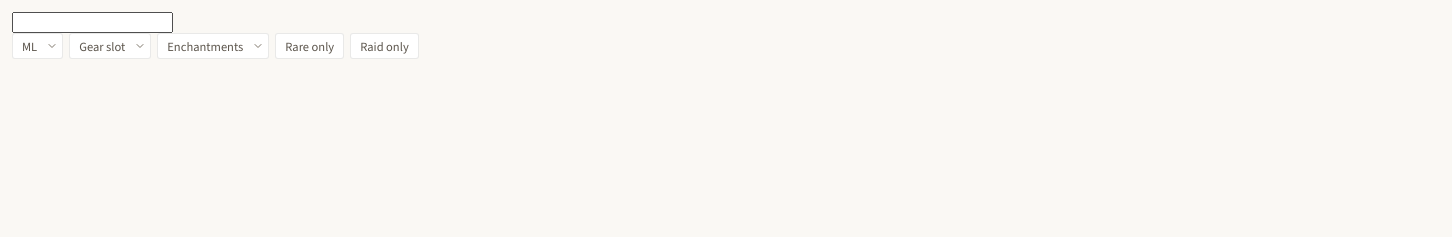
Test: FilterChipRow › keeps the multi label, shows its count in a badge, and renders removable applied pills
Click the button "Enchantments" at (213, 46), box [157, 33, 269, 59]
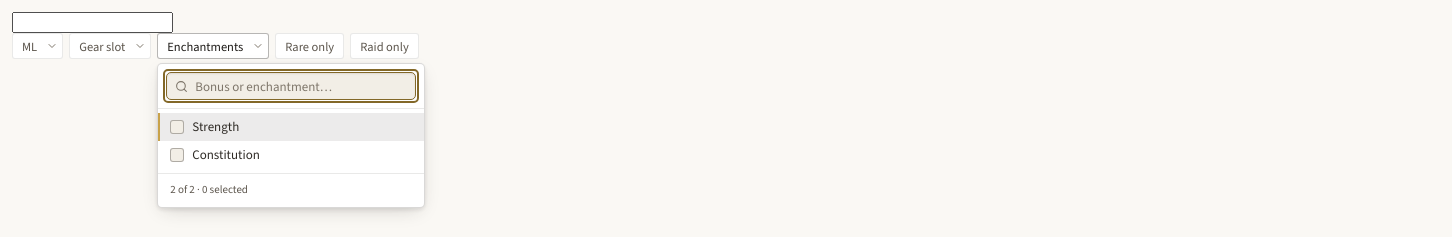
Click the option "Strength" at (216, 127), box [158, 113, 424, 141]
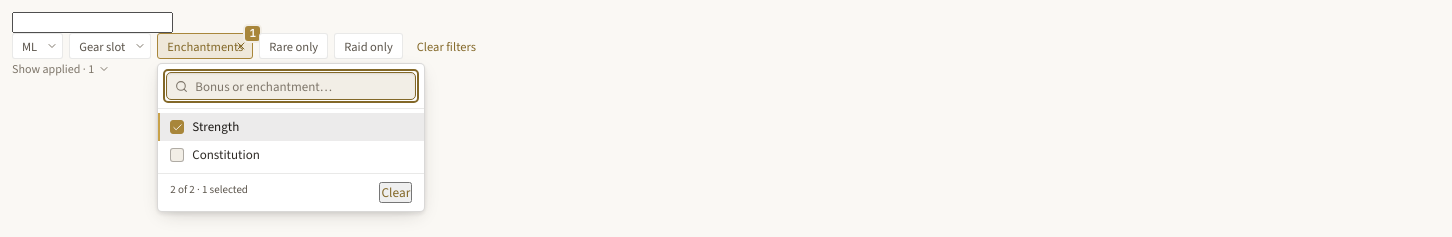
Click the option "Constitution" at (215, 155), box [170, 146, 260, 163]
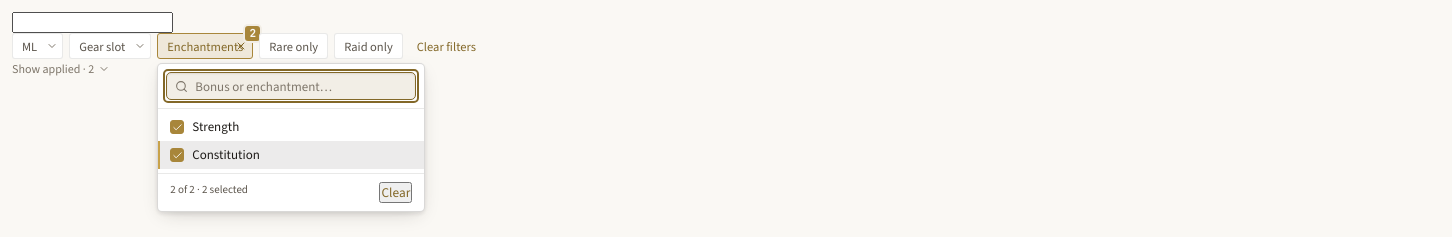
Expected: the button "Enchantments" does not show "· 2", [157, 33, 253, 59]
Expected: the text with class "filter-chip-badge" reads "2", [250, 26, 256, 40]
Click the button "Show applied · 2" at (61, 69), box [12, 59, 110, 79]
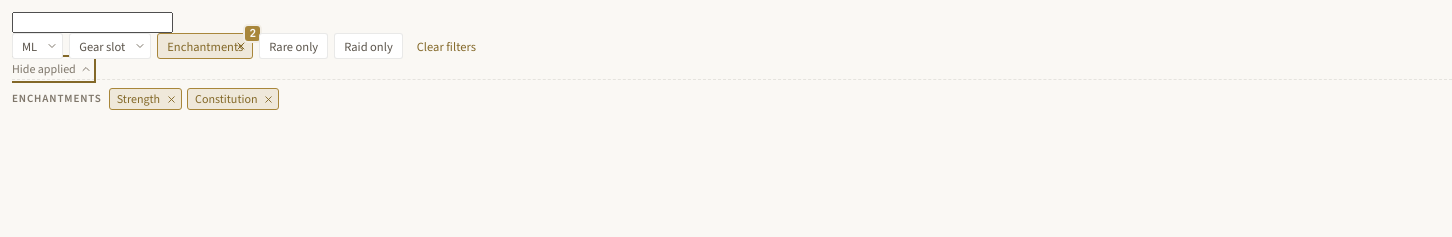
Expected: the 1st element with class "filter-applied-value-remove" is shown, [166, 94, 177, 104]
